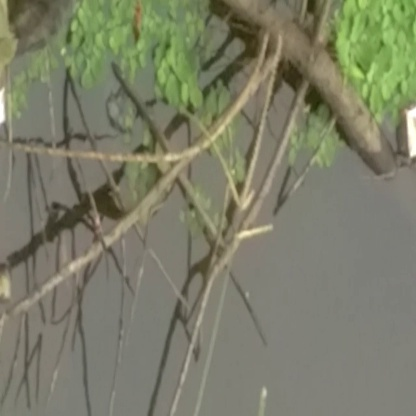branch: (230, 2, 396, 179)
